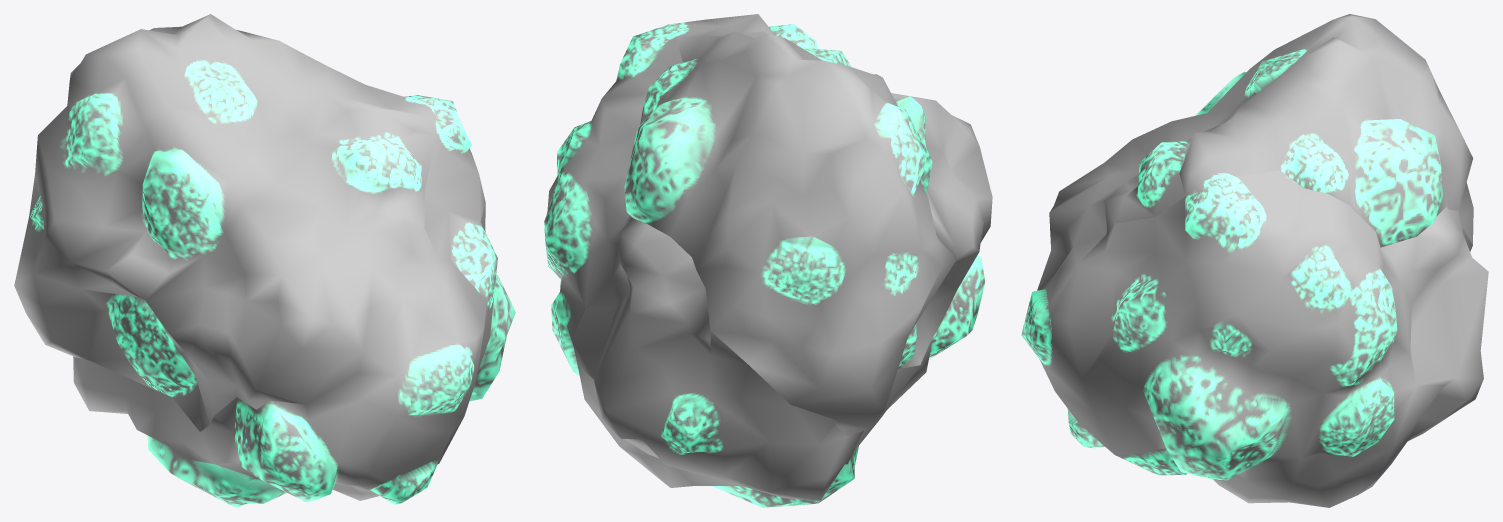
File: Asteroid_5.FBX
3 views of the same model, side by side, from view 1: azimuth 30°, elevation 25°; view 2: azimuth 150°, elevation 25°; view 3: azimuth 270°, elevation 25° (orthographic). The views are drawn at different scales.
Visible parts, largest first — view 1: Asteroid_5_LOD0; view 2: Asteroid_5_LOD0; view 3: Asteroid_5_LOD0.
Part boxes in pixels (<box>): Asteroid_5_LOD0: <box>14,14,515,507</box>; Asteroid_5_LOD0: <box>544,14,992,507</box>; Asteroid_5_LOD0: <box>1021,14,1488,507</box>.
Size of what is drawn, in the model's own units: 78.69 by 86.6 by 89.32.
